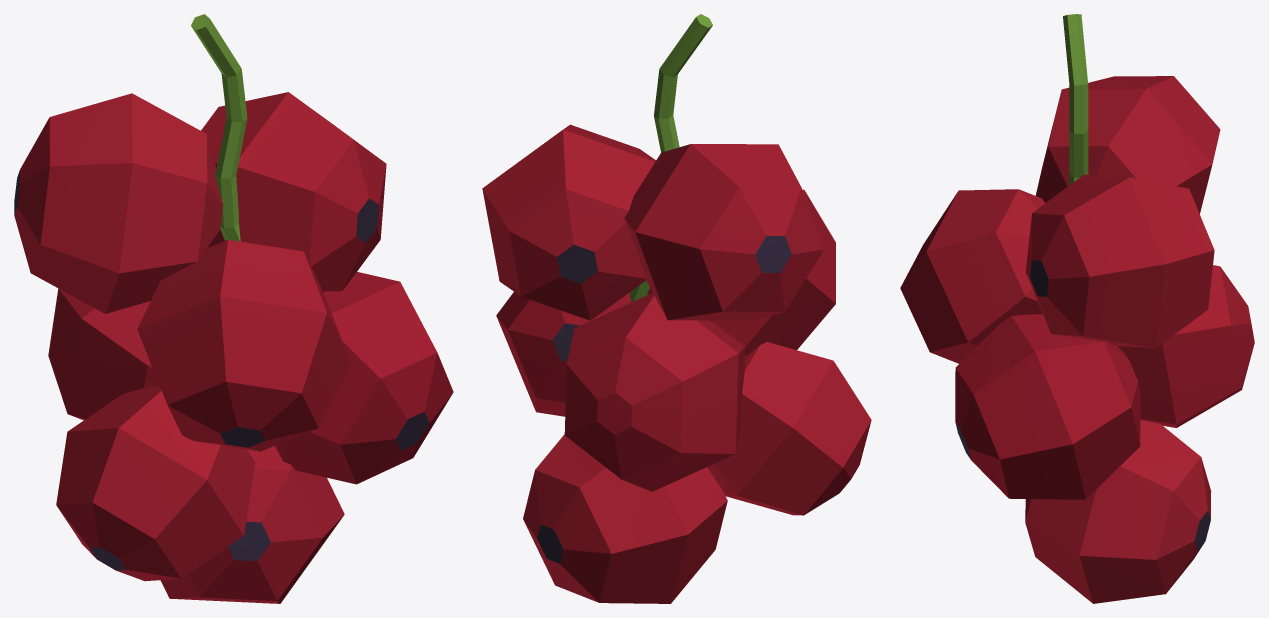
Rendered from Currant.fbx.
3 views of the same model, side by side, from view 1: azimuth 30°, elevation 25°; view 2: azimuth 150°, elevation 25°; view 3: azimuth 270°, elevation 25° (orthographic). The views are drawn at different scales.
Parts seen in each view (by area): view 1: Currant; view 2: Currant; view 3: Currant.
Part boxes in pixels (x1,y1,x2,y2): Currant: (14,14,453,603); Currant: (482,14,871,603); Currant: (900,14,1254,603).
Bounding box in the file's own units: 8.34 × 13.31 × 7.74.
